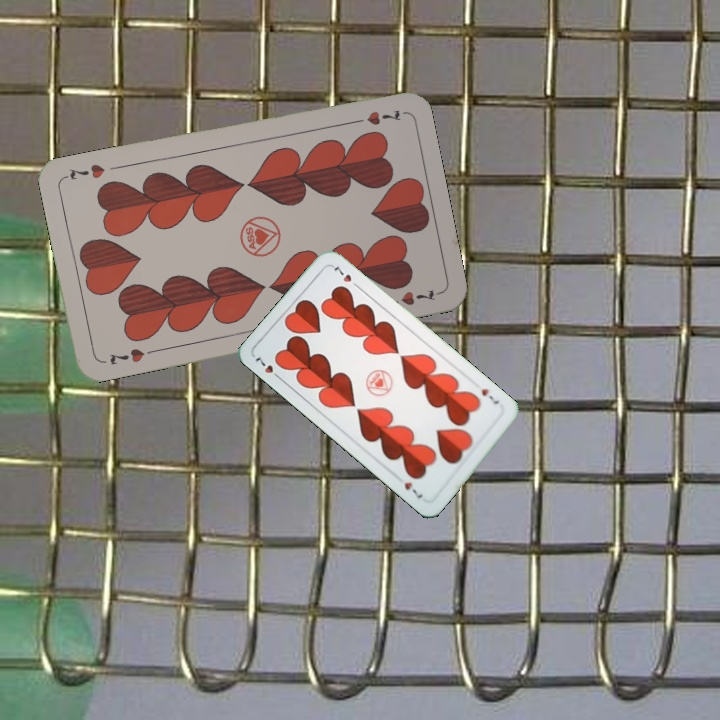H7: (347, 105, 406, 128), (105, 344, 158, 368), (251, 353, 284, 383), (477, 385, 502, 407)
